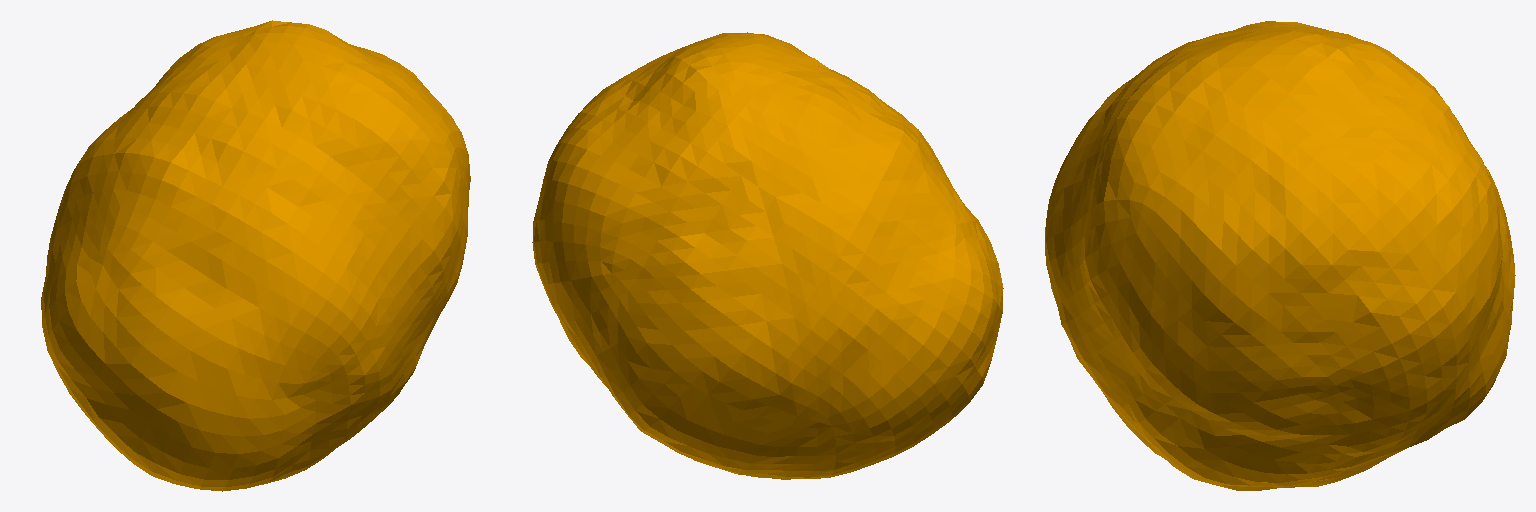
robot.urdf — rock:
<?xml version="1.0" ?>
<robot name="rock">
  <link name="rock">
    <inertial>
      <mass value="0.248"/>
      <origin rpy="0 0 0" xyz="0 0 0"/>
      <inertia ixx="0.000248" ixy="0" ixz="0" iyy="0.000248" iyz="0" izz="0.000248"/>
    </inertial>
    <collision name="rock_collision">
      <origin rpy="0 0 0" xyz="0 0 0"/>
      <geometry>
        <mesh filename="package://rocks/visual/94.dae" scale="1 1 1"/>
      </geometry>
    </collision>
    <visual name="rock_visual">
      <origin rpy="0 0 0" xyz="0 0 0"/>
      <geometry>
        <mesh filename="package://rocks/visual/94.dae" scale="1 1 1"/>
      </geometry>
    </visual>
  </link>
</robot>

--- What the picture shows (computed from the rendered views, not written in the file) ---
Views: 3 orthographic renders of the robot side by side, from view 1: azimuth 30°, elevation 25°; view 2: azimuth 150°, elevation 25°; view 3: azimuth 270°, elevation 25°.
Robot: rock — 1 links, 0 joints (none); root link rock; default pose: every joint at zero.
Visible links, largest first — view 1: rock; view 2: rock; view 3: rock.
Link boxes in pixels (<box>): rock: <box>41,20,470,491</box>; rock: <box>532,32,1003,479</box>; rock: <box>1045,21,1515,490</box>.
Size in the robot's own frame: 0.0723 by 0.0655 by 0.0708 metres.
1 mesh visuals loaded from 1 distinct referenced files (1 Collada DAE).